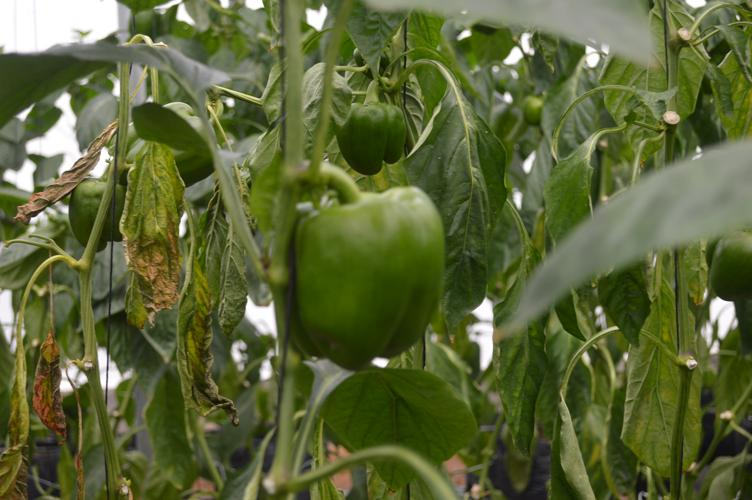BellPepper: (295, 189, 446, 357), (120, 104, 216, 180), (326, 100, 411, 169), (66, 179, 127, 245)
